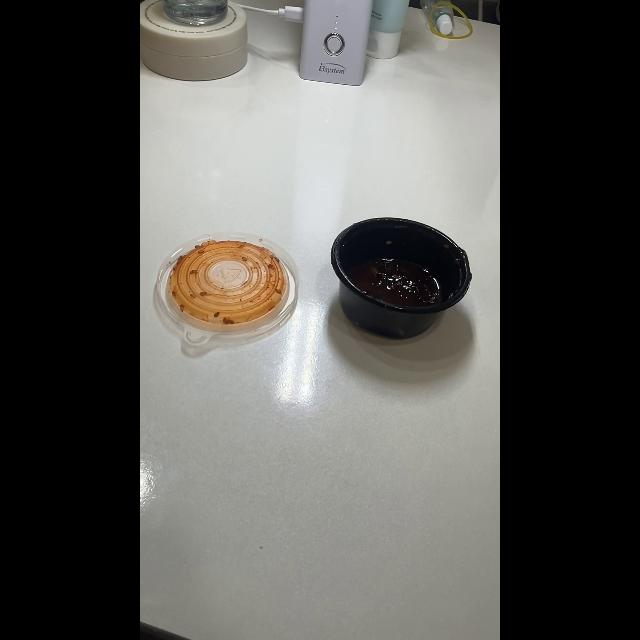dirty: (330, 217, 472, 341), (168, 240, 288, 326)
